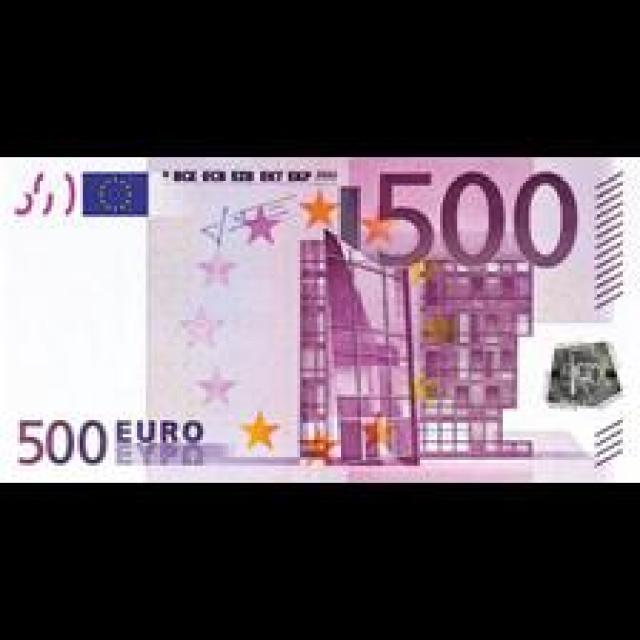banknote: (0, 151, 637, 483), (372, 167, 586, 276), (13, 409, 113, 472)
